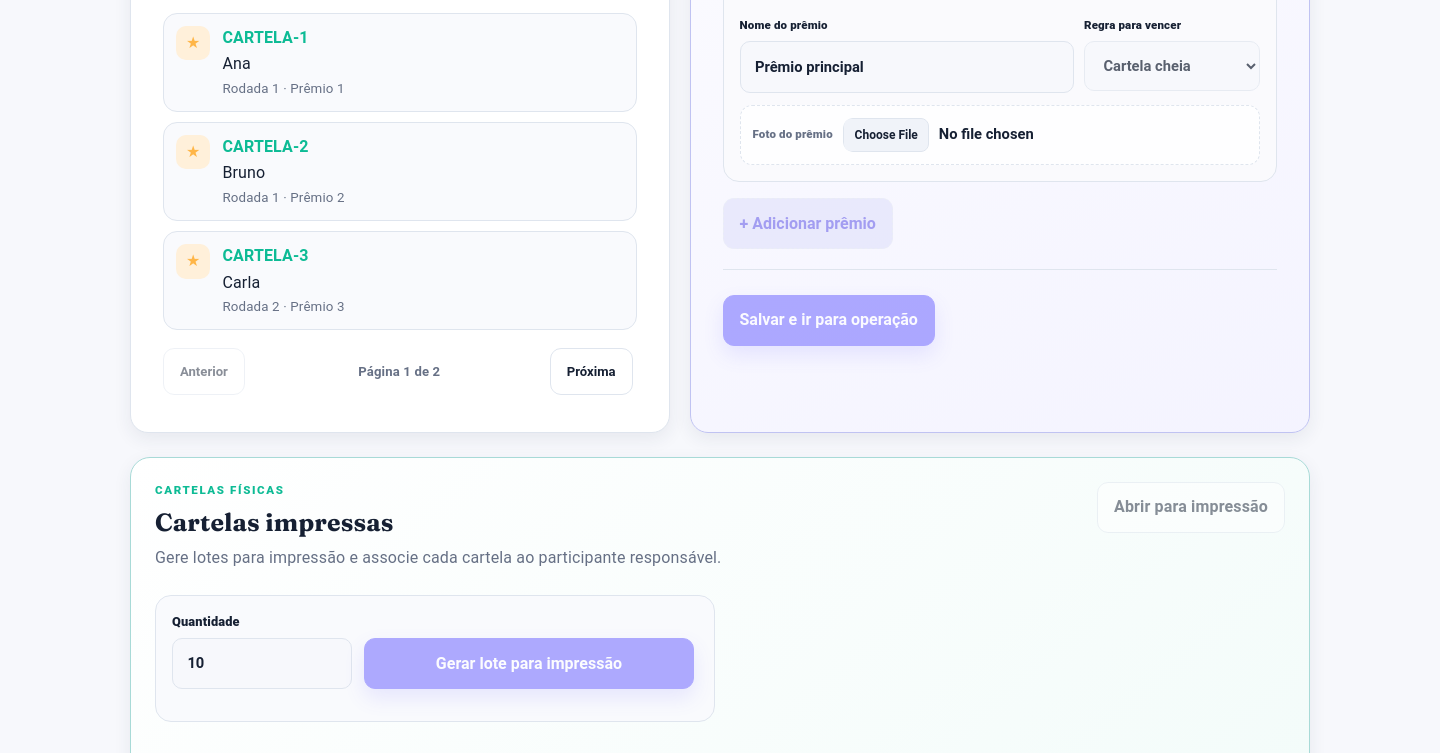
Test case: EventSetupPage › carrega as cartelas premiadas em páginas de três itens
(page scrolled)
Expected: the text "CARTELA-1" is shown, [222,28,309,47]
Expected: the text "CARTELA-3" is shown, [222,246,309,265]
Step 1. Click the button "Próxima" → (591, 372), box [550,348,632,395]
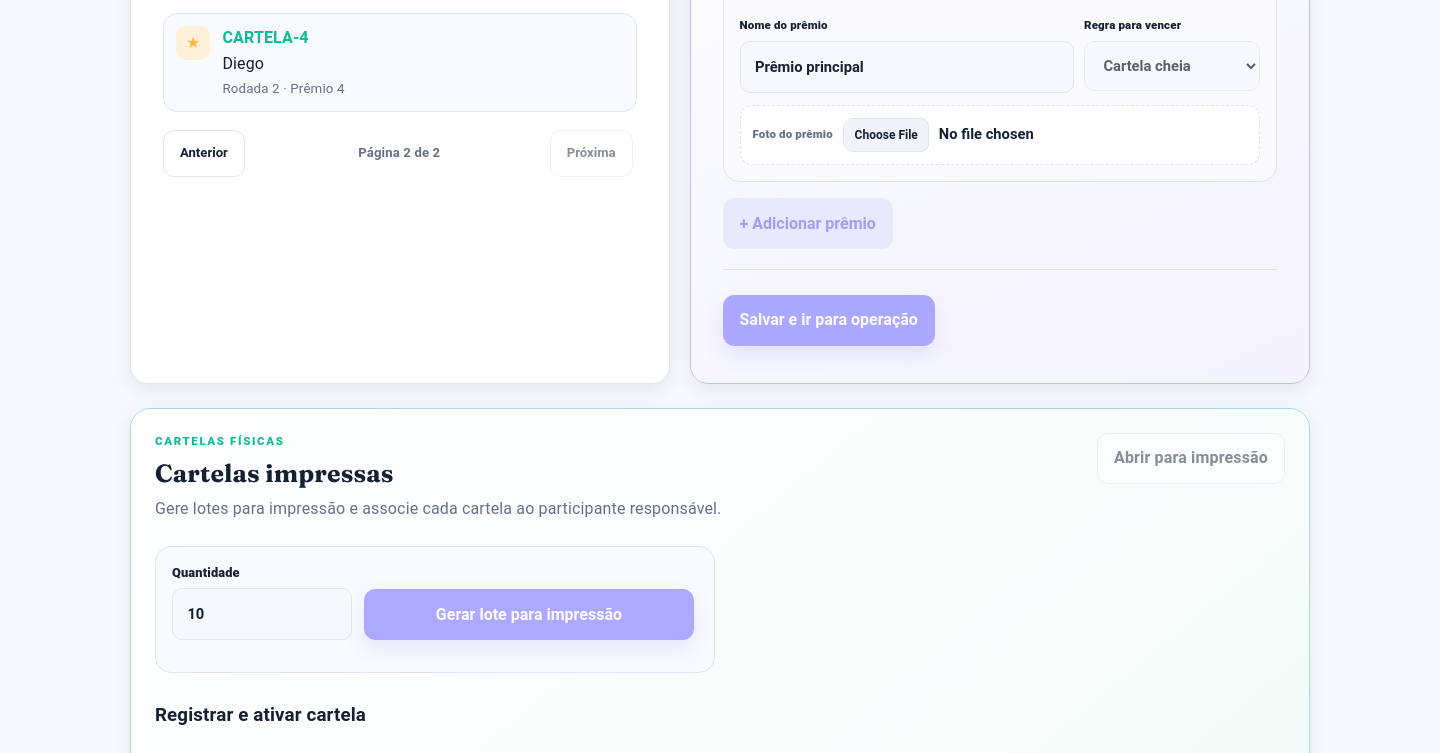
Now the text "CARTELA-4" is shown, box [222,28,309,47]
Now the text "CARTELA-1" is gone
